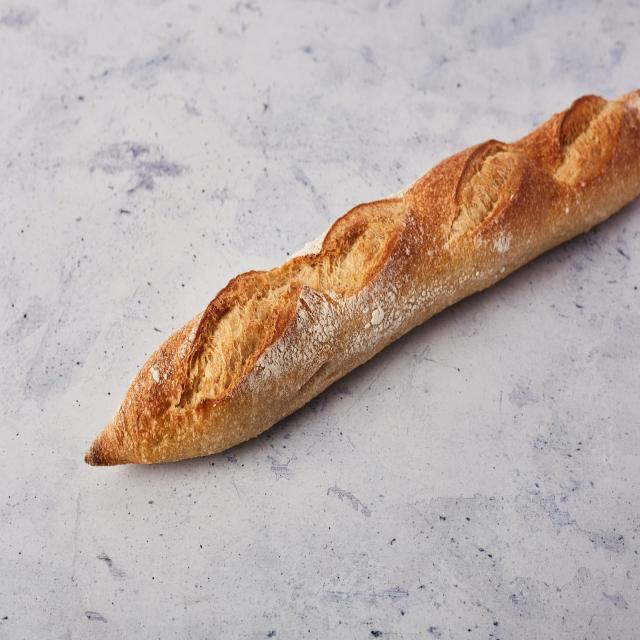Baguette: (85, 90, 640, 465)
